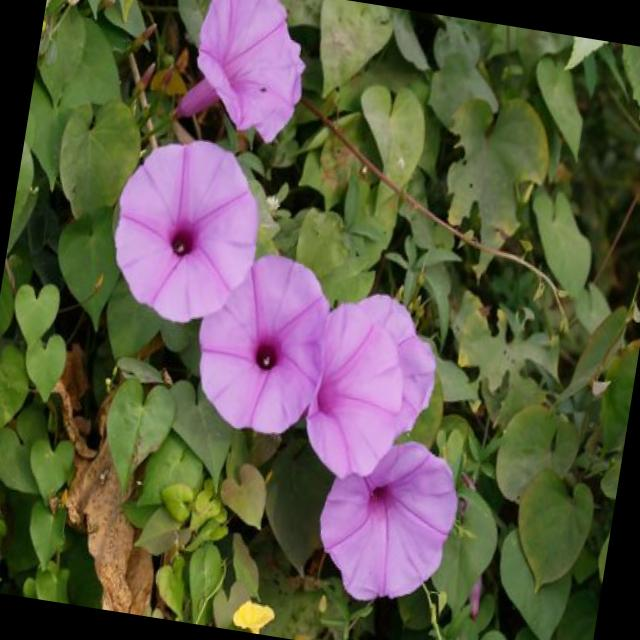ipomoea: (97, 125, 276, 338), (292, 281, 450, 494), (182, 242, 343, 446), (304, 425, 470, 618), (169, 0, 321, 153)
